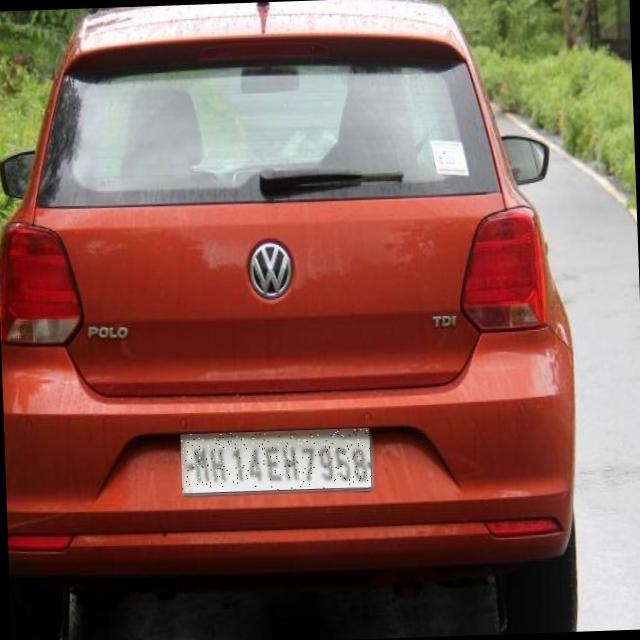Plate: (181, 428, 372, 494)
